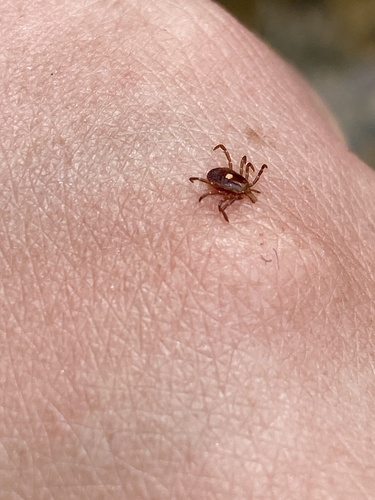dog tick: (190, 164, 267, 223)
